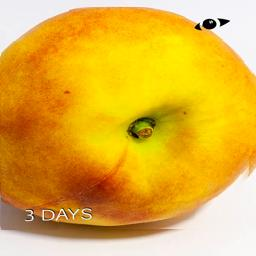Peach Fresh: (1, 7, 256, 230)
